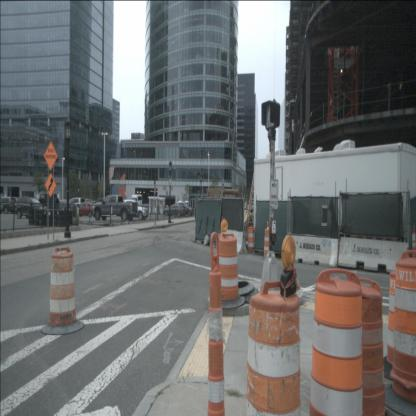barrier: (338, 236, 410, 278), (286, 235, 339, 268), (219, 228, 247, 255)
cone: (240, 235, 306, 416), (306, 268, 369, 416), (338, 278, 394, 415), (379, 248, 415, 415), (379, 268, 416, 383), (40, 246, 84, 336), (207, 231, 226, 416), (212, 231, 245, 310), (262, 222, 272, 260), (245, 224, 256, 256), (412, 224, 415, 271)
